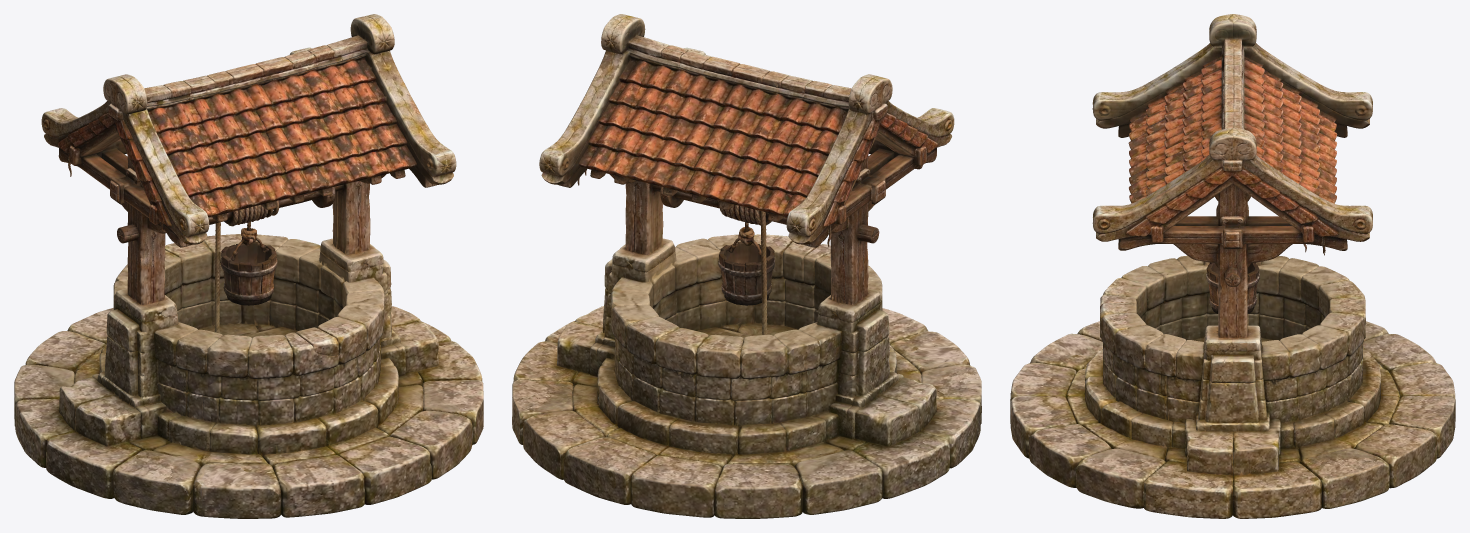
File: stone_well_3d_model_LOD2.glb
The picture shows the model from 3 angles, left to right: view 1: azimuth 30°, elevation 25°; view 2: azimuth 150°, elevation 25°; view 3: azimuth 270°, elevation 25°; orthographic projection. The views are drawn at different scales.
Parts seen in each view (by area): view 1: tripo_node_2f08c811-9e4a-4256-bd8e-f7e58145c8ce; view 2: tripo_node_2f08c811-9e4a-4256-bd8e-f7e58145c8ce; view 3: tripo_node_2f08c811-9e4a-4256-bd8e-f7e58145c8ce.
Part boxes in pixels (box(x1,y1,x2,y2)): tripo_node_2f08c811-9e4a-4256-bd8e-f7e58145c8ce: box(14, 14, 483, 518); tripo_node_2f08c811-9e4a-4256-bd8e-f7e58145c8ce: box(512, 14, 981, 518); tripo_node_2f08c811-9e4a-4256-bd8e-f7e58145c8ce: box(1010, 14, 1455, 518).
Bounding box in the file's own units: 0.9799 × 0.8471 × 0.9745.
Materials: 1 (1 with a texture image).
